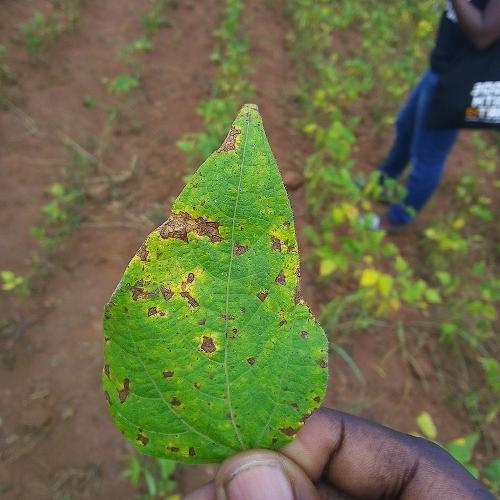hawar: (102, 146, 318, 442)
